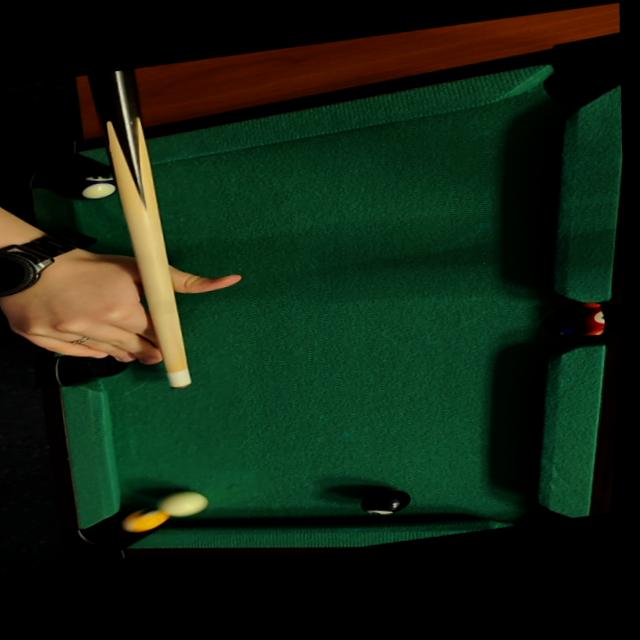cue ball: (147, 481, 217, 524)
other: (350, 480, 418, 521), (61, 164, 119, 204), (115, 501, 173, 536)
